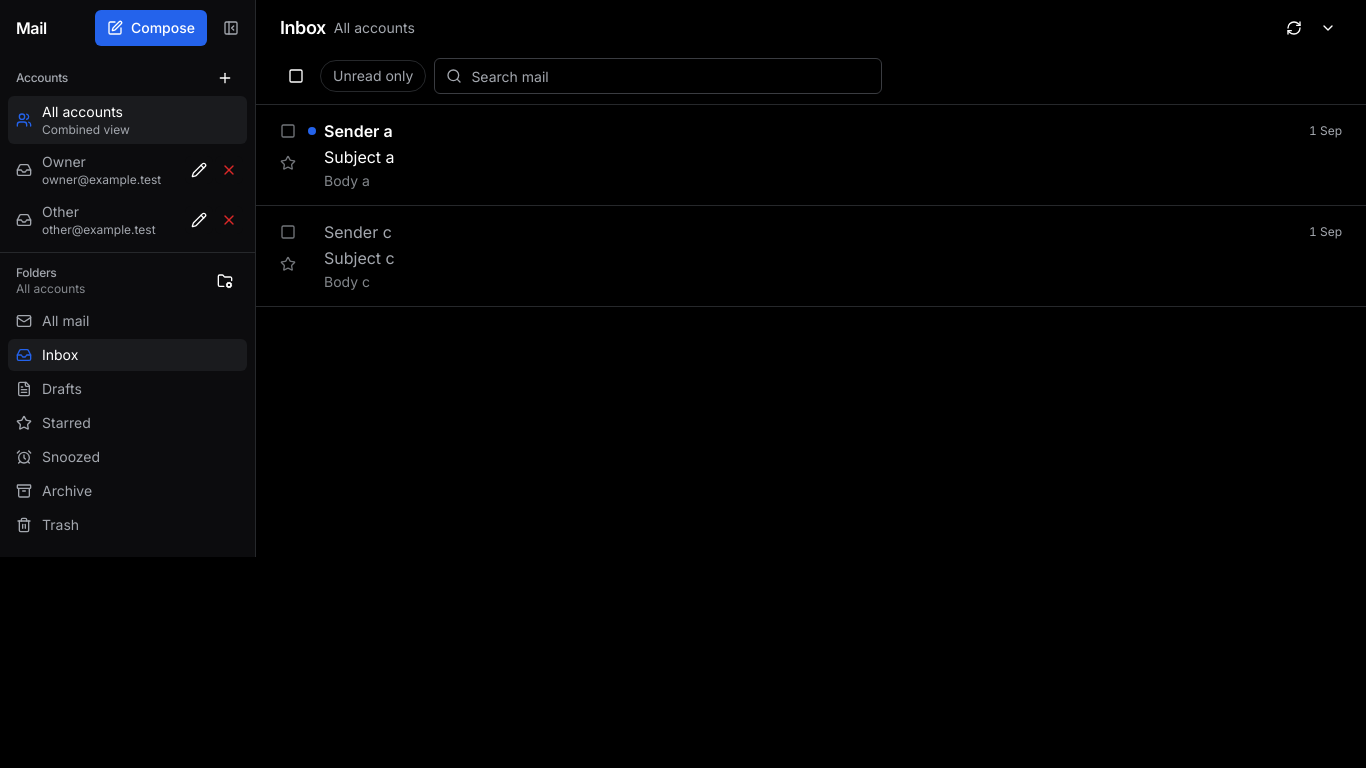
it: snooze › the Snoozed view lists the waiting messages with their return time and brings one back
Expected: the text "Subject a" is shown, [324, 147, 395, 167]
Expected: the text "Subject b" is not shown
Click the button "Snoozed" at x=128, y=457, box [8, 441, 247, 473]
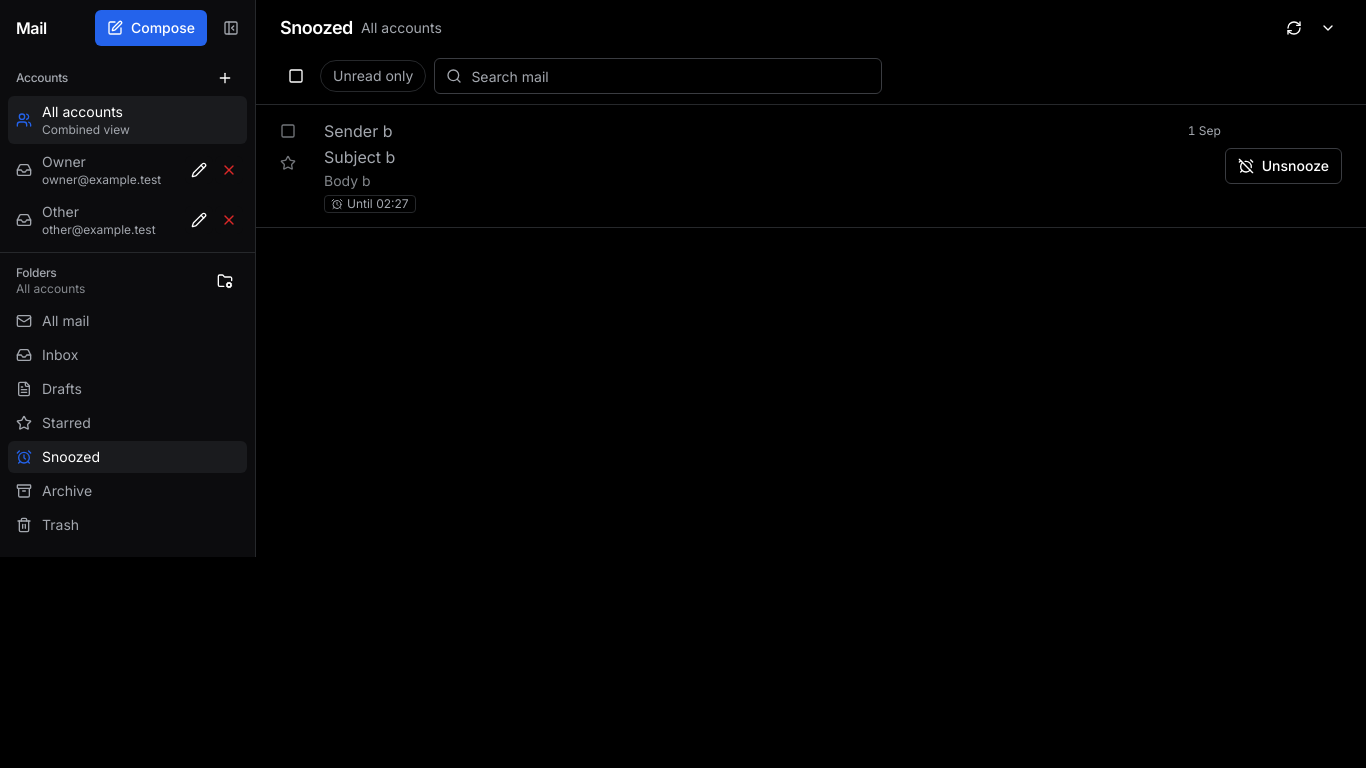
Expected: the text "Subject b" is shown, [324, 147, 395, 167]
Expected: the button "Subject a" is gone
Click the button "Unsnooze" at x=1283, y=166, box [1225, 148, 1342, 184]
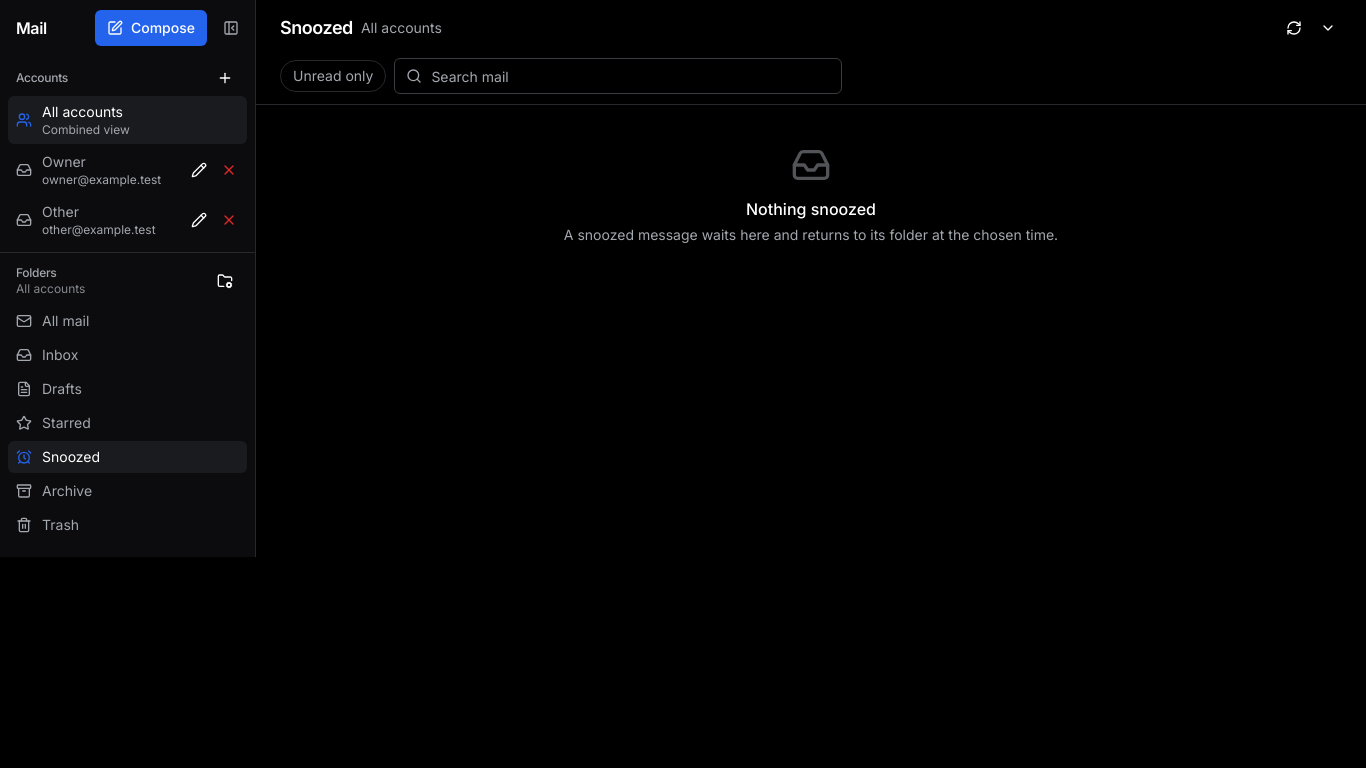
Expected: the button "Subject b" is gone
Click the button "Inbox" at x=128, y=355, box [8, 339, 247, 371]
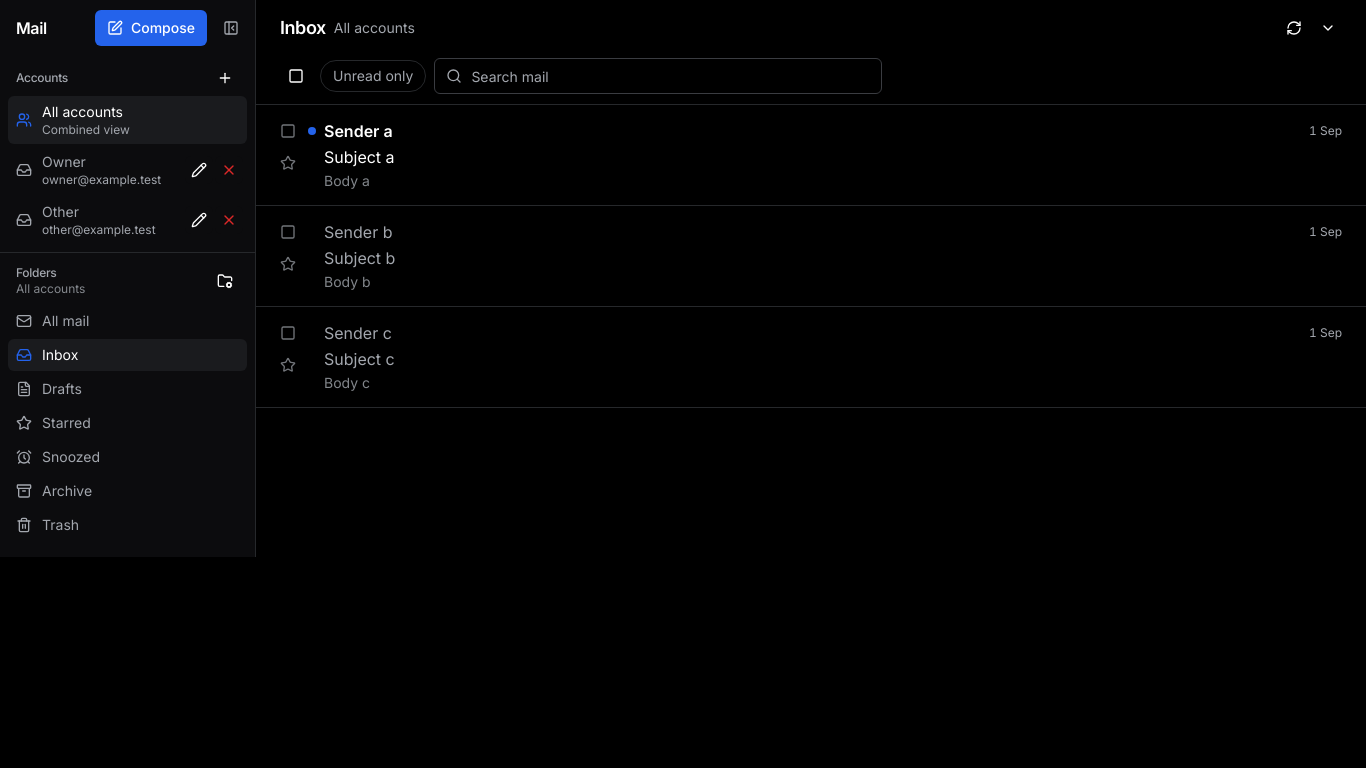
Expected: the text "Subject b" is shown, [324, 248, 395, 268]
